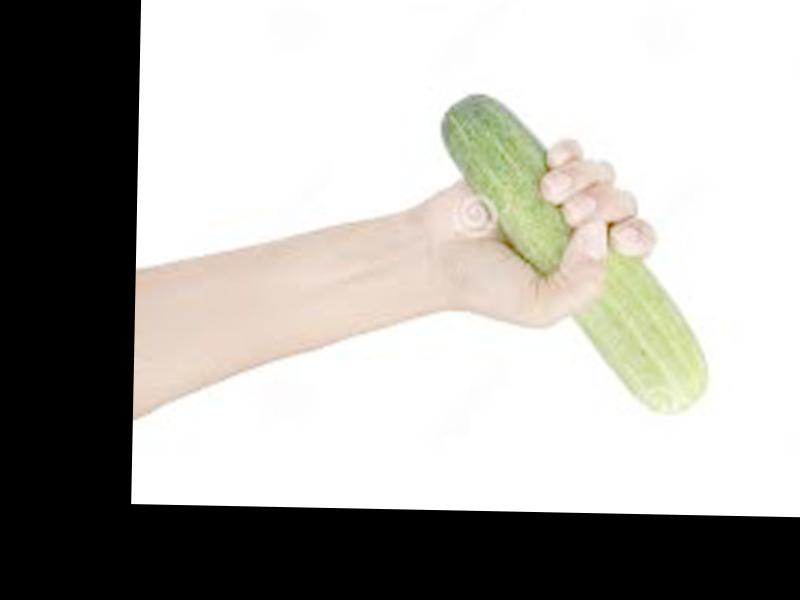Cucumber: (428, 92, 712, 412)
